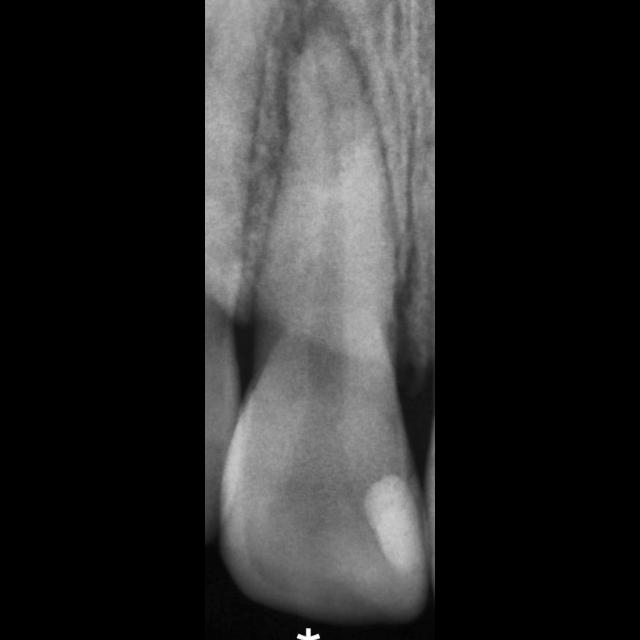tooth: (219, 14, 431, 626)
